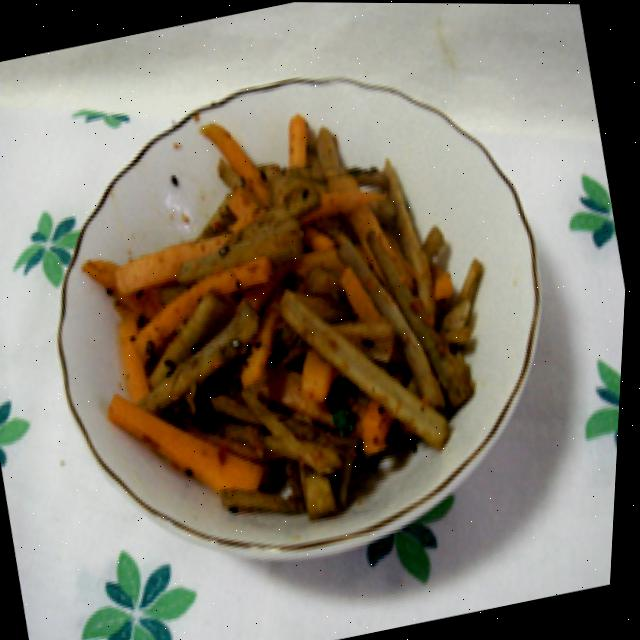蔬菜料理: (6, 45, 615, 609)
